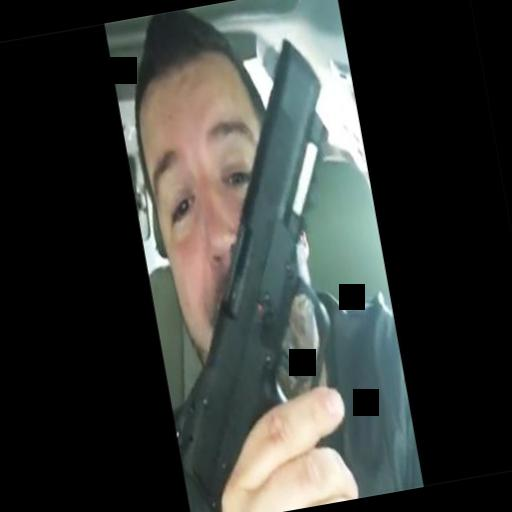Handgun: (111, 32, 393, 512)
